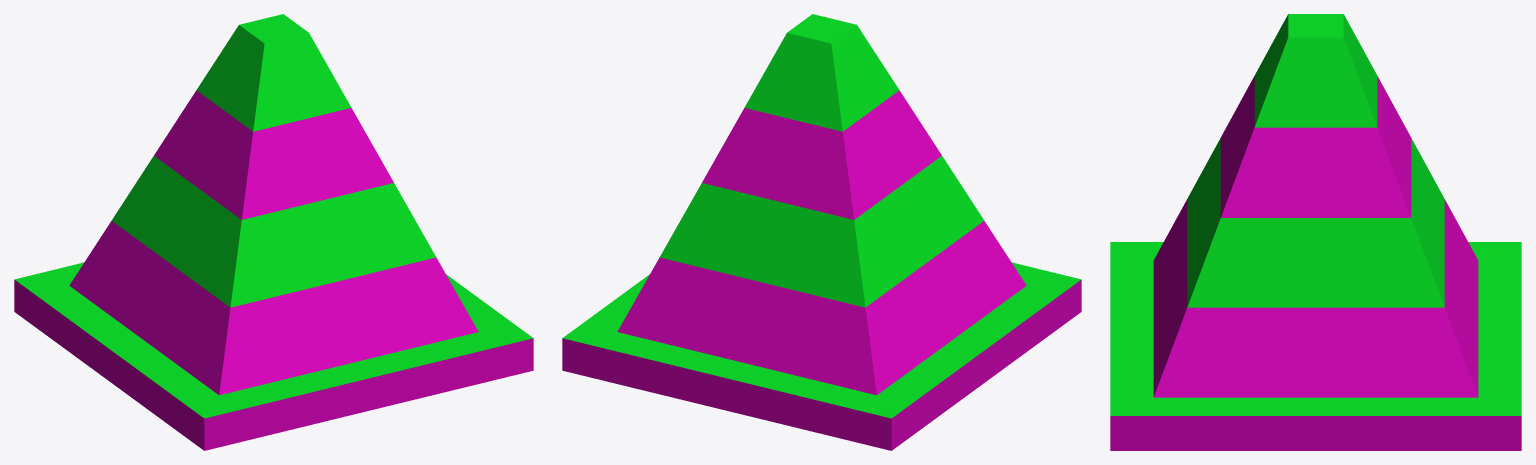
File: Koni.fbx
3 renders of one model, left to right at view 1: azimuth 30°, elevation 25°; view 2: azimuth 150°, elevation 25°; view 3: azimuth 270°, elevation 25°, orthographic. The views are drawn at different scales.
Parts seen in each view (by area): view 1: Cube; view 2: Cube; view 3: Cube.
Part boxes in pixels (left/top/right/bottom): Cube: left=14, top=14, right=533, bottom=450; Cube: left=562, top=14, right=1081, bottom=450; Cube: left=1110, top=14, right=1521, bottom=450.
Size of the model in its own units: 200 by 181 by 200.
